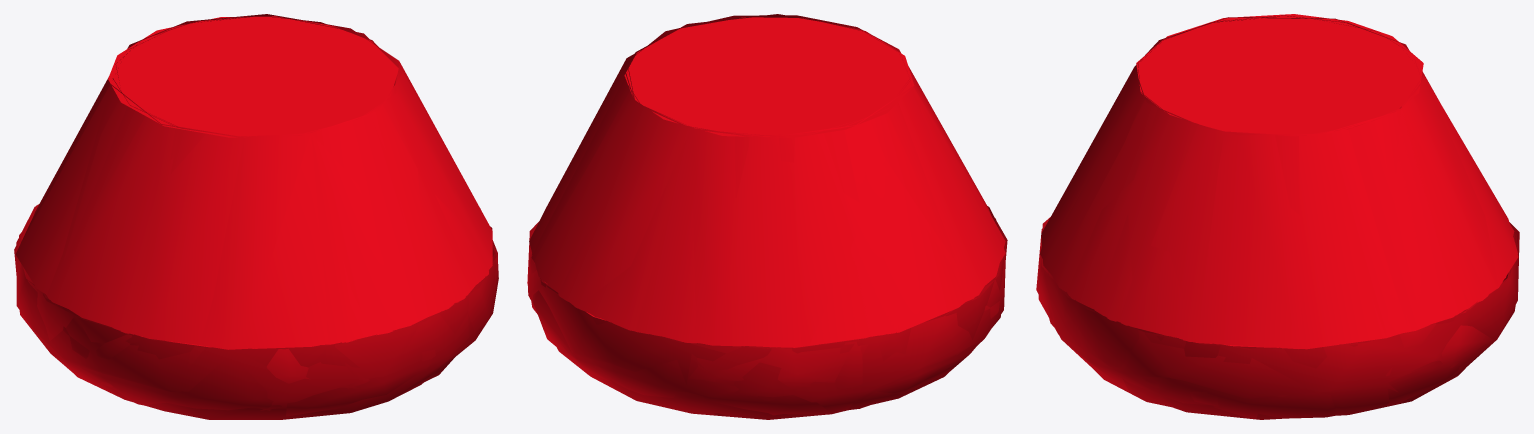
Rendered from liquid_red.glb.
3 views of the same model, side by side, from view 1: azimuth 30°, elevation 25°; view 2: azimuth 150°, elevation 25°; view 3: azimuth 270°, elevation 25° (orthographic).
Parts seen in each view (by area): view 1: SketchUp; view 2: SketchUp; view 3: SketchUp.
Boxes of the visible parts, x1,y1,x2,y2 form: SketchUp: (14, 14, 498, 419); SketchUp: (527, 14, 1007, 419); SketchUp: (1036, 14, 1519, 419).
Bounding box in the file's own units: 2.27 × 1.34 × 2.26.
